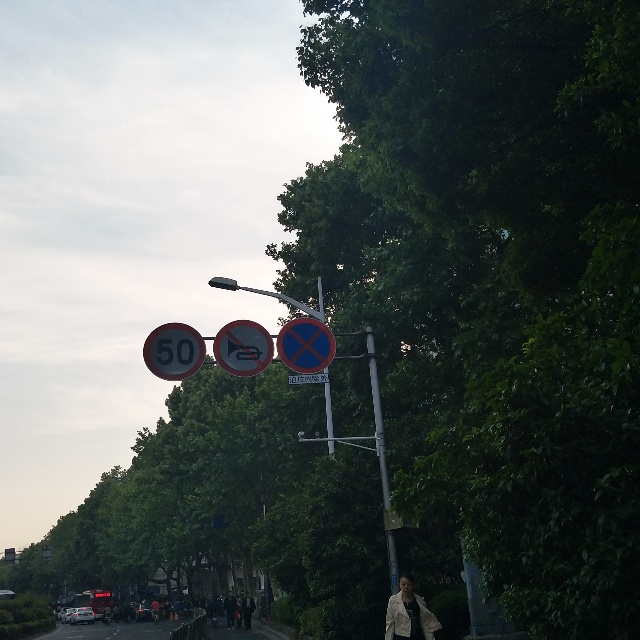nohonk: (209, 318, 277, 381)
stop: (278, 309, 336, 381)
